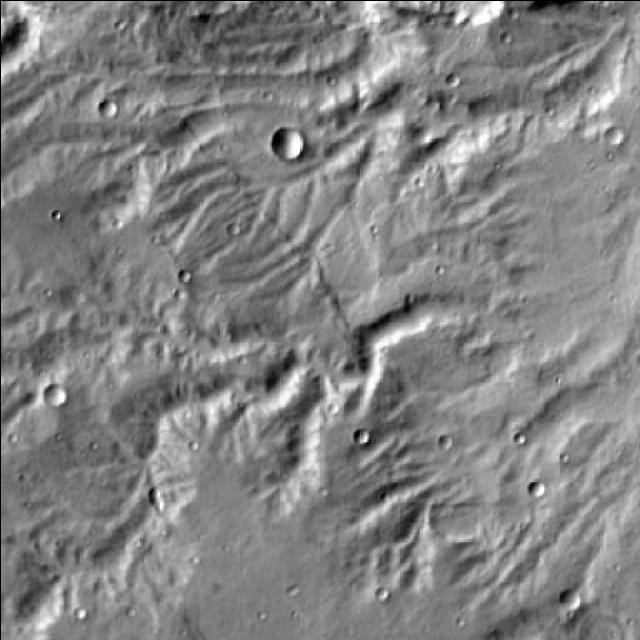crater: (582, 609, 640, 640), (272, 127, 304, 159), (41, 382, 62, 404), (560, 586, 582, 606), (95, 98, 113, 116), (607, 123, 625, 140), (529, 480, 546, 498)
